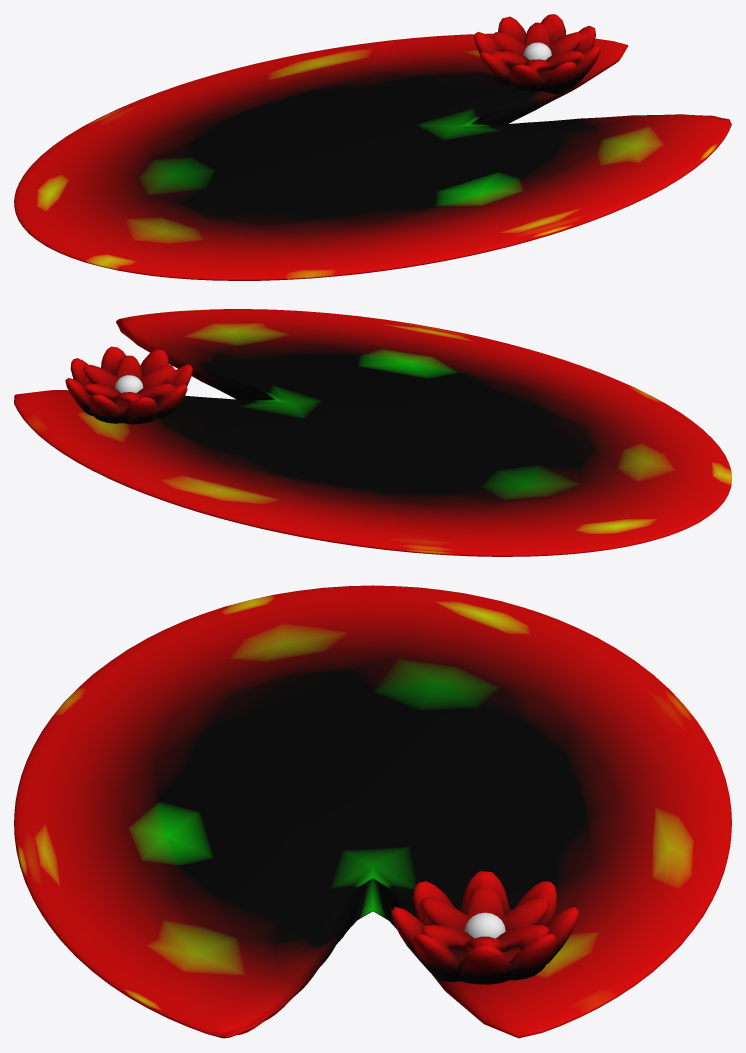
File: prop-goal.glb
3 renders of one model, top to bottom at view 1: azimuth 30°, elevation 25°; view 2: azimuth 150°, elevation 25°; view 3: azimuth 270°, elevation 25°, orthographic. The views are drawn at different scales.
Parts seen in each view (by area): view 1: goalPad, lotusPetals; view 2: goalPad, lotusPetals; view 3: goalPad, lotusPetals, lotusBud.
Part boxes in pixels (box(x1,y1,x2,y2)): goalPad: box(14, 33, 731, 280); lotusPetals: box(474, 14, 600, 94); goalPad: box(14, 309, 731, 556); lotusPetals: box(65, 346, 192, 424); goalPad: box(14, 585, 731, 1038); lotusPetals: box(391, 871, 578, 984); lotusBud: box(464, 912, 505, 938).
Size of the model in its own units: 11.42 by 0.9448 by 7.68.
